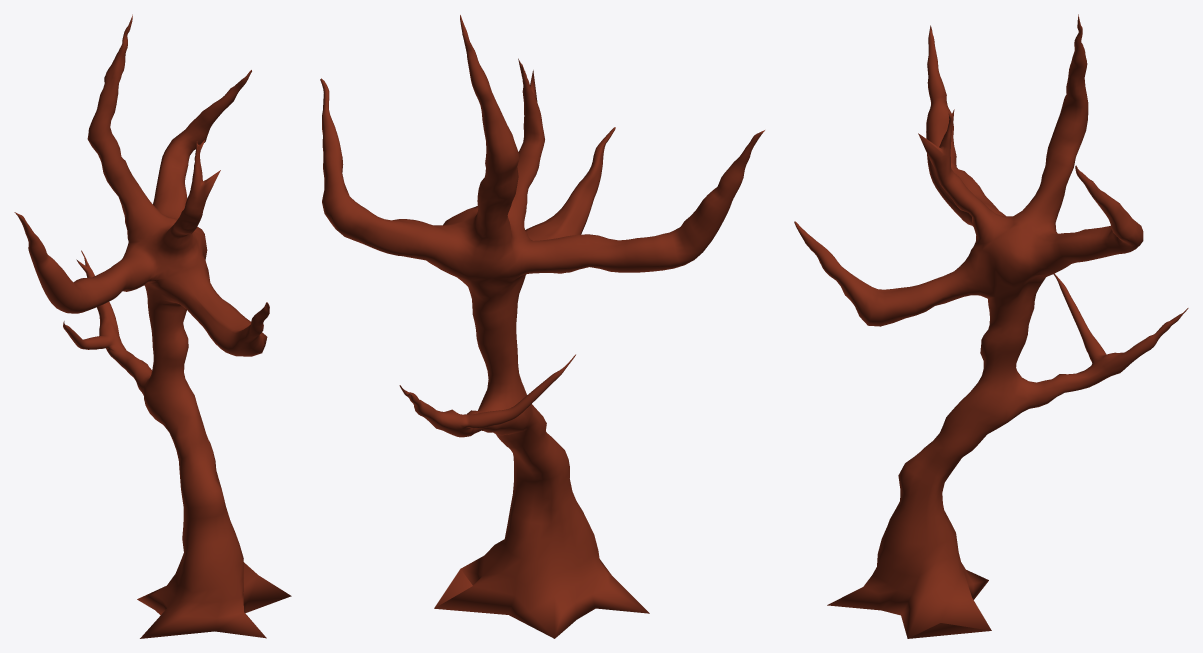
The picture shows the model from 3 angles, left to right: view 1: azimuth 30°, elevation 25°; view 2: azimuth 150°, elevation 25°; view 3: azimuth 270°, elevation 25°; orthographic projection. The views are drawn at different scales.
Parts seen in each view (by area): view 1: Cube_0; view 2: Cube_0; view 3: Cube_0.
Boxes of the visible parts, box(x1,y1,x2,y2) form: Cube_0: box(14, 14, 291, 638); Cube_0: box(320, 15, 764, 638); Cube_0: box(794, 14, 1188, 638).
Bounding box in the file's own units: 0.5849 × 1 × 0.6077.
